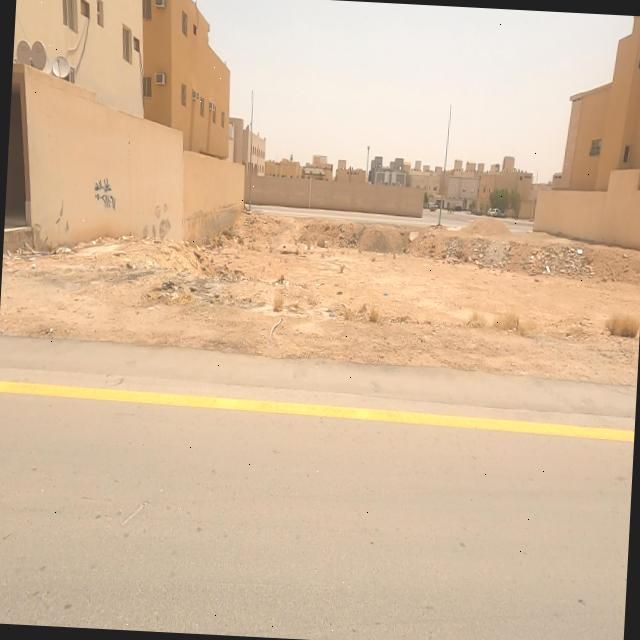Graffiti: (143, 203, 174, 240), (94, 179, 118, 214)
